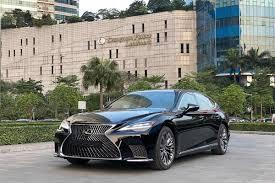lexus: (79, 128, 93, 136)
